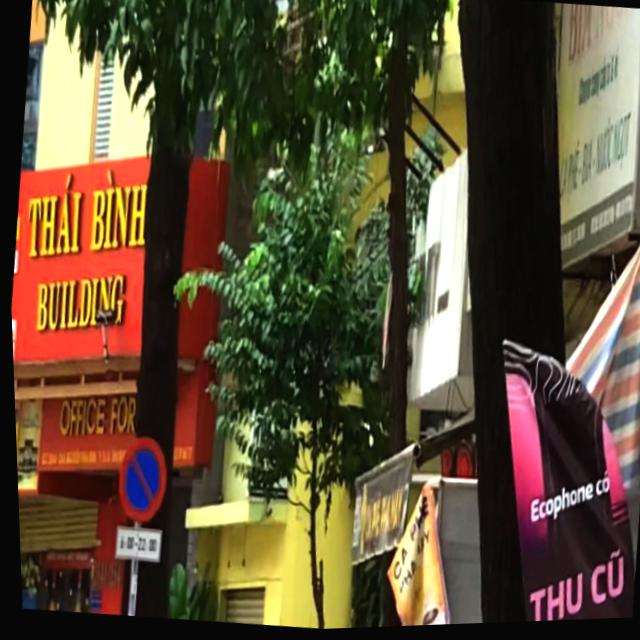Cam do xe: (109, 434, 168, 526)
